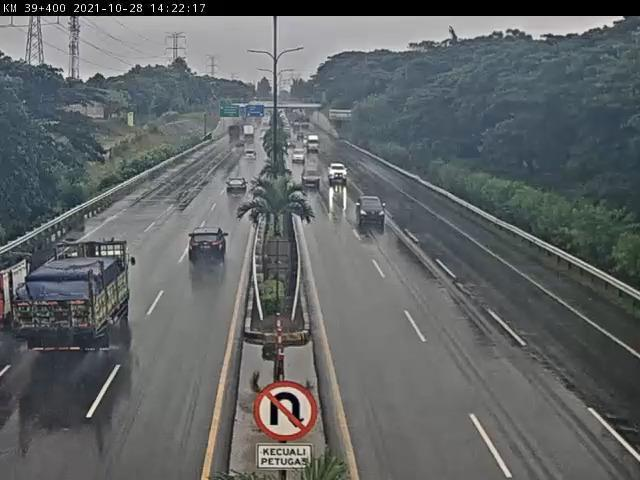car: (191, 226, 229, 258), (356, 196, 387, 227), (327, 162, 348, 184), (300, 167, 322, 188), (230, 178, 249, 197)
truck: (14, 240, 133, 352)
